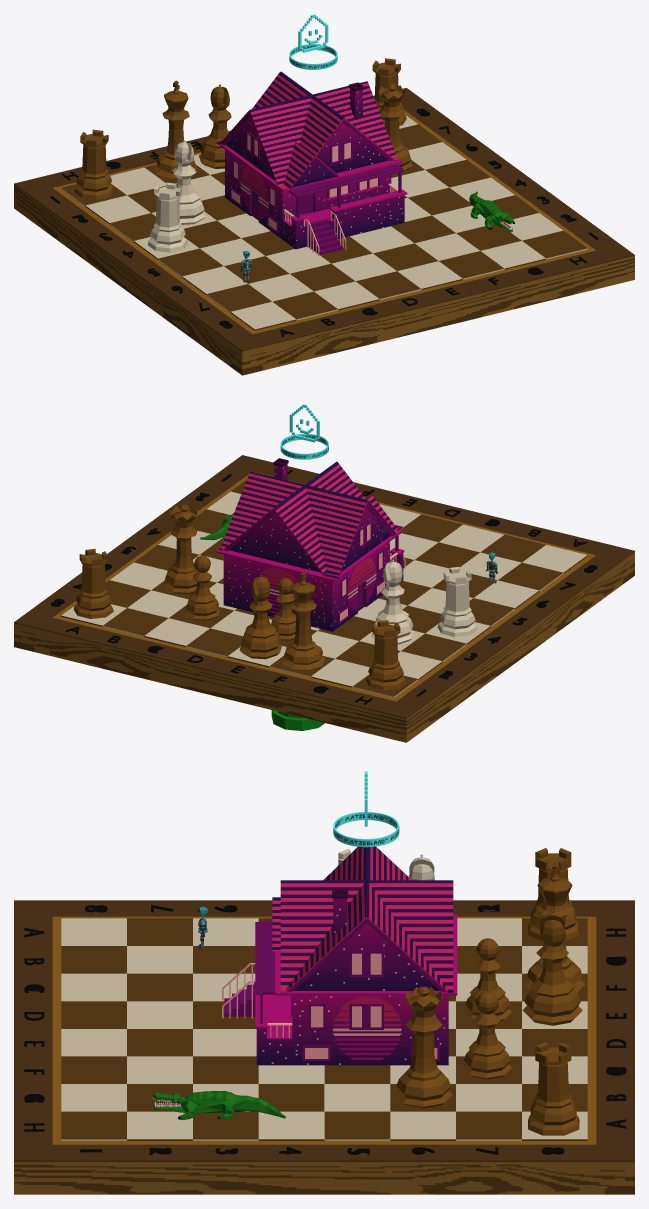
3 renders of one model, top to bottom at view 1: azimuth 30°, elevation 25°; view 2: azimuth 150°, elevation 25°; view 3: azimuth 270°, elevation 25°, orthographic. The views are drawn at different scales.
Visible parts, largest first — view 1: Cube.002, Cube.156, TYPE_PREMIUM, ANIMAL_COCODRILO; view 2: Cube.002, Cube.156, TYPE_PREMIUM, UNDERGROUND_PIPES; view 3: Cube.002, Cube.156, ANIMAL_COCODRILO, TYPE_PREMIUM.
Part boxes in pixels (x1,y1,x2,y2): Cube.002: (14, 58, 634, 375); Cube.156: (216, 71, 407, 255); TYPE_PREMIUM: (289, 14, 337, 69); ANIMAL_COCODRILO: (469, 191, 514, 232); Cube.002: (14, 455, 634, 742); Cube.156: (215, 458, 405, 631); TYPE_PREMIUM: (280, 404, 328, 459); UNDERGROUND_PIPES: (271, 710, 324, 730); Cube.002: (14, 848, 634, 1194); Cube.156: (222, 846, 457, 1065); ANIMAL_COCODRILO: (152, 1091, 285, 1119); TYPE_PREMIUM: (333, 771, 399, 847).
Size of the model in its own units: 3981 by 2761 by 4012.
Materials: 29 (5 with a texture image).
